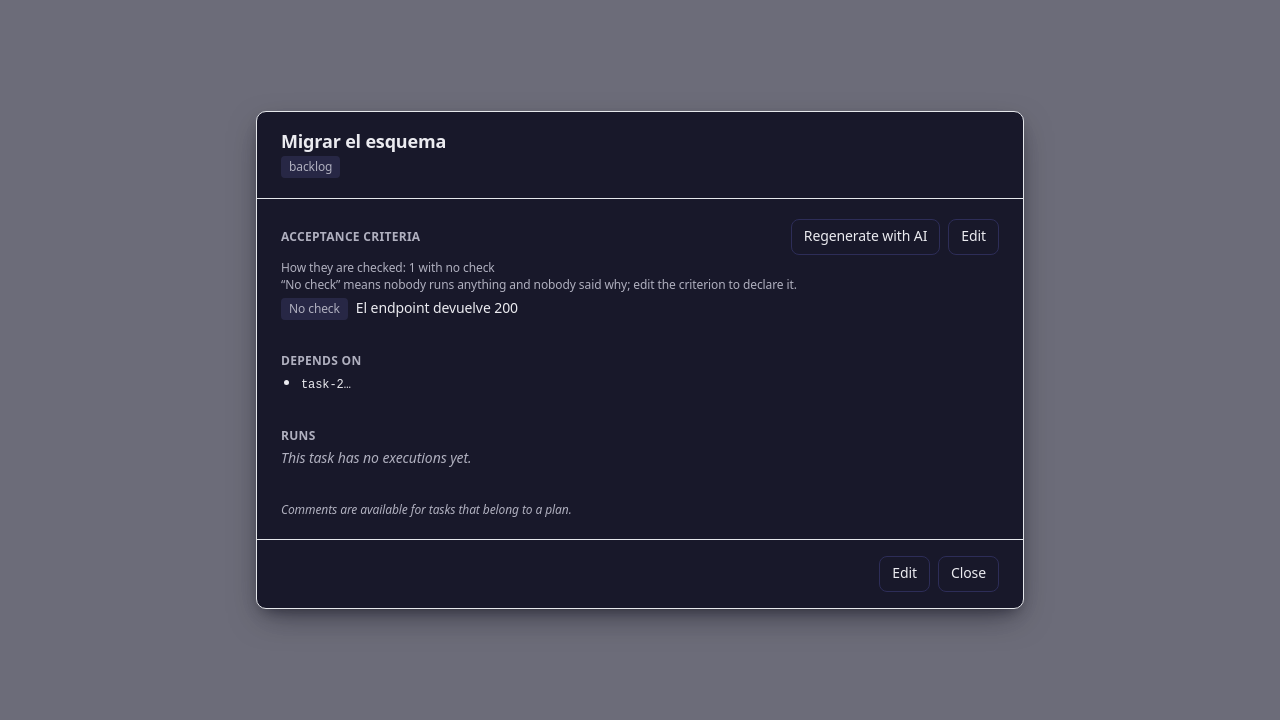
Test: ficha de la tarea en los dos idiomas › traduce el diálogo de comparación de criterios generados por IA
The width and height of the screenshot is (1280, 720).
Click the button with test id "task-criteria-generate". click: (866, 237)
box: [791,219,940,255]
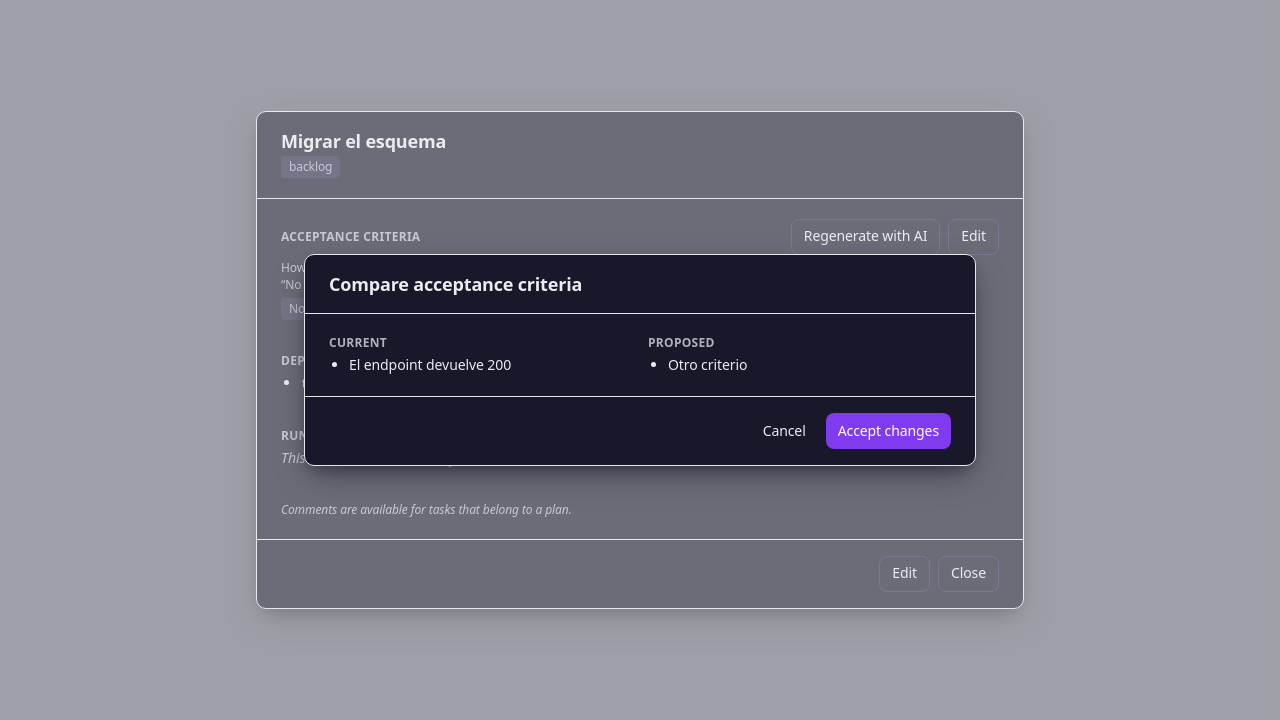
Expected: the element with test id "task-criteria-compare" is shown, [304,254,976,466]
Expected: the heading "Compare acceptance criteria" is shown, [329,272,582,296]
Expected: the heading "Current" is shown, [329,334,387,351]
